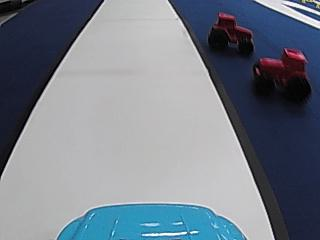Tracktor: (252, 44, 311, 101), (207, 8, 254, 55)
